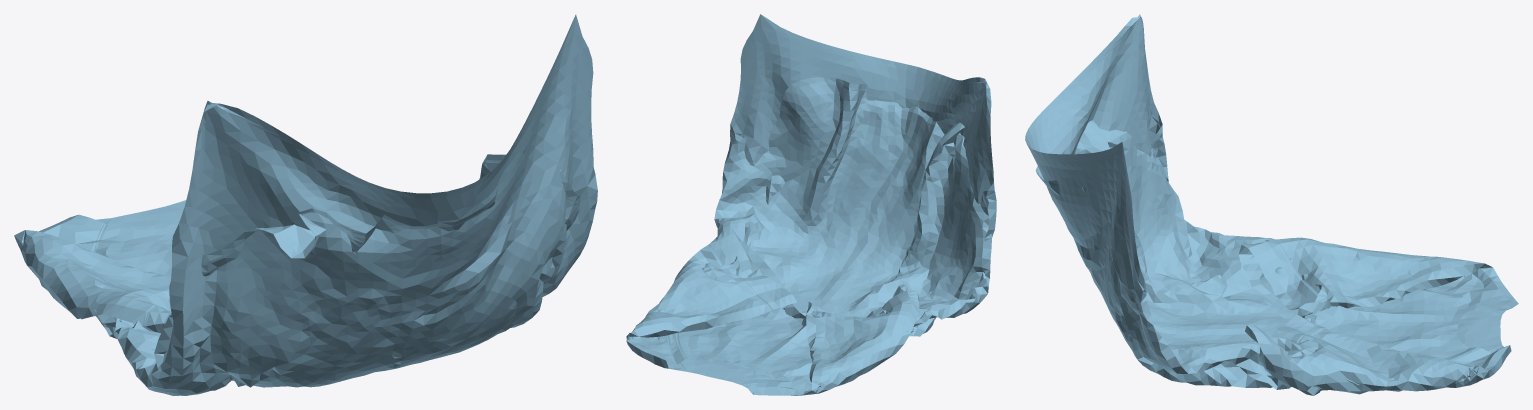
The model's file is frame_08.glb.
3 renders of one model, left to right at view 1: azimuth 30°, elevation 25°; view 2: azimuth 150°, elevation 25°; view 3: azimuth 270°, elevation 25°, orthographic. The views are drawn at different scales.
Visible parts, largest first — view 1: frame_08.obj; view 2: frame_08.obj; view 3: frame_08.obj.
Part boxes in pixels (box(x1,y1,x2,y2)): frame_08.obj: box(14, 14, 597, 395); frame_08.obj: box(626, 14, 996, 395); frame_08.obj: box(1025, 14, 1518, 395).
Size of the model in its own units: 1.14 by 0.8851 by 1.51.
